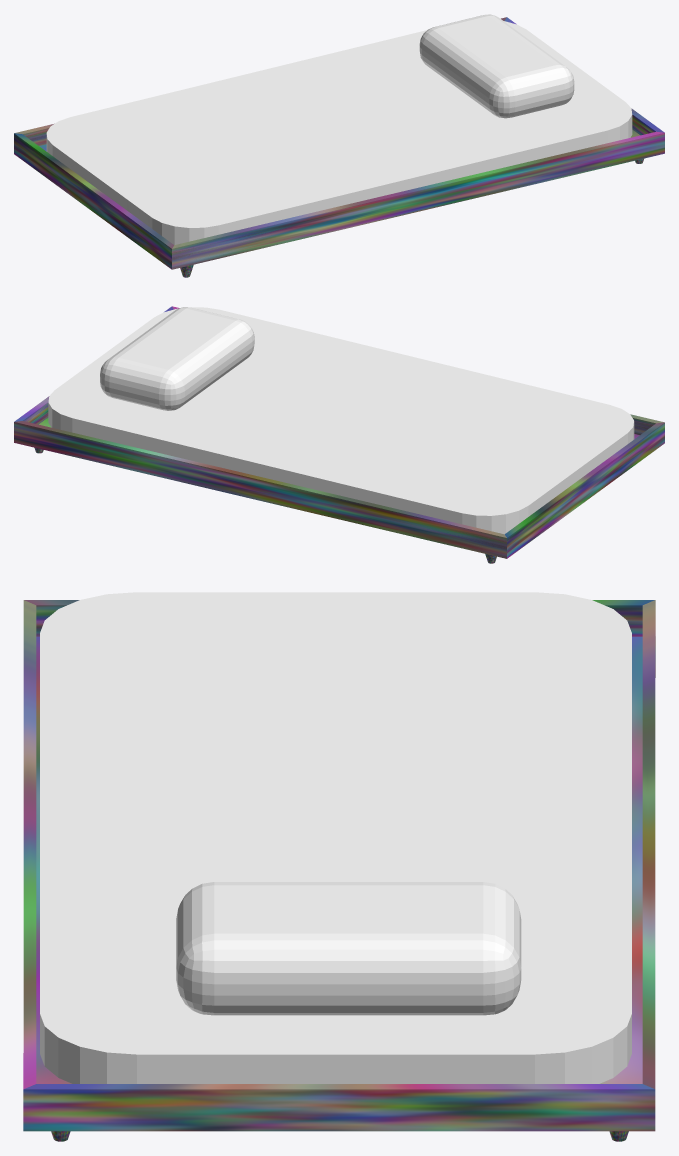
The model's file is Cama.glb.
The picture shows the model from 3 angles, top to bottom: view 1: azimuth 30°, elevation 25°; view 2: azimuth 150°, elevation 25°; view 3: azimuth 270°, elevation 25°; orthographic projection. The views are drawn at different scales.
Visible parts, largest first — view 1: Cube.004, Cube.003, Cube.005; view 2: Cube.004, Cube.003, Cube.005; view 3: Cube.004, Cube.003, Cube.005.
Part boxes in pixels (x1,y1,x2,y2): Cube.004: (46,21,632,244); Cube.003: (14,17,664,277); Cube.005: (419,14,574,118); Cube.004: (48,307,634,534); Cube.003: (14,306,664,563); Cube.005: (100,307,254,410); Cube.004: (40,592,631,1083); Cube.003: (23,600,655,1141); Cube.005: (176,882,521,1015).
Bounding box in the file's own units: 3.14 × 0.4902 × 1.75.
Materials: 3 (1 with a texture image).
